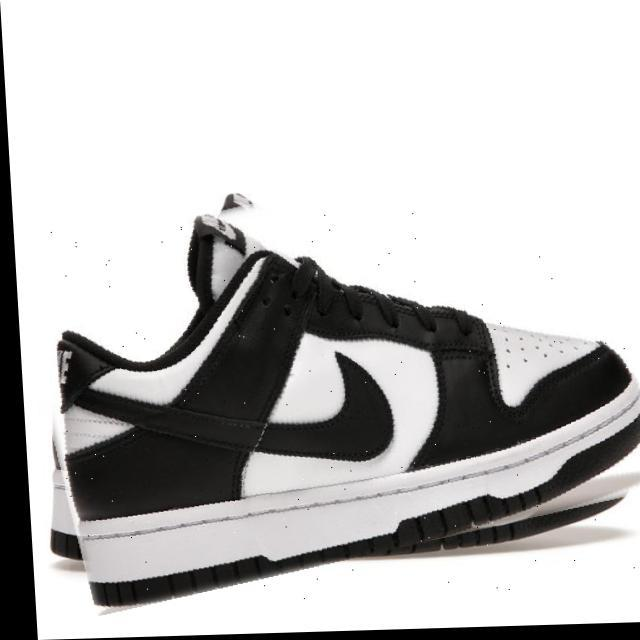J1_ShoeLogo: (49, 191, 638, 607)
J1_StitchPattern: (56, 400, 636, 605), (85, 484, 546, 606), (188, 209, 475, 351), (481, 318, 611, 408), (394, 487, 542, 548), (89, 557, 266, 606), (183, 189, 254, 307), (329, 278, 440, 341), (419, 496, 523, 538), (193, 211, 247, 254), (54, 343, 76, 410)
